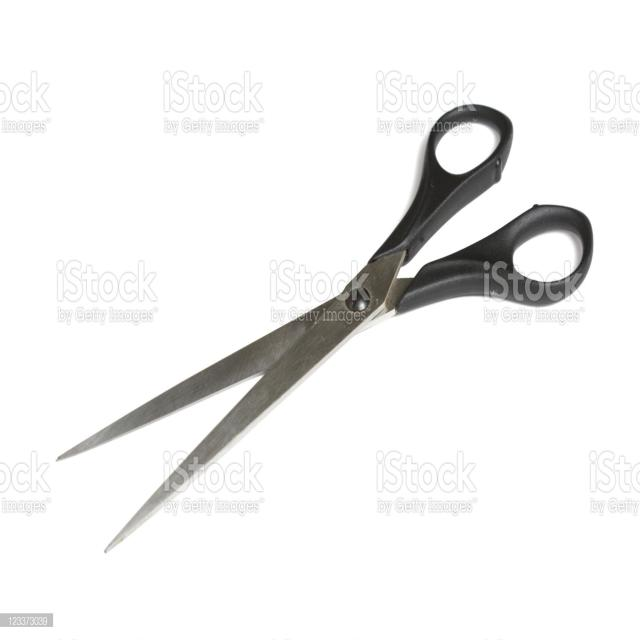scissor: (56, 97, 596, 564)
